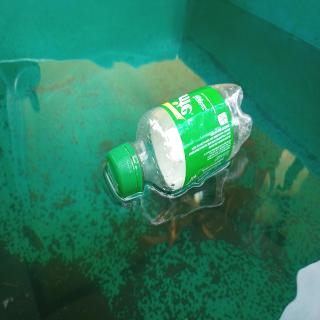bottle: (106, 80, 253, 199)
